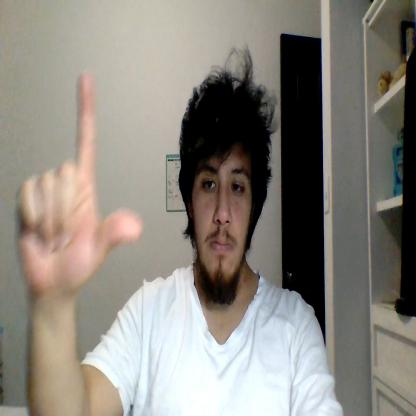L: (15, 72, 142, 294)
